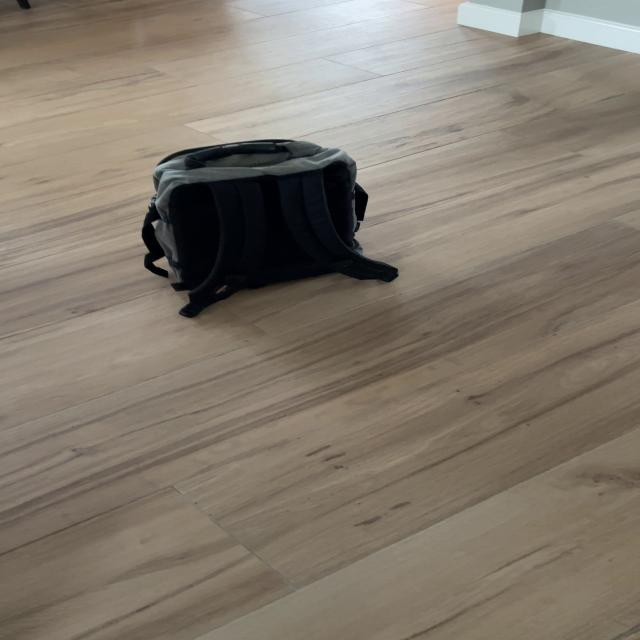backpack: (126, 129, 390, 319)
